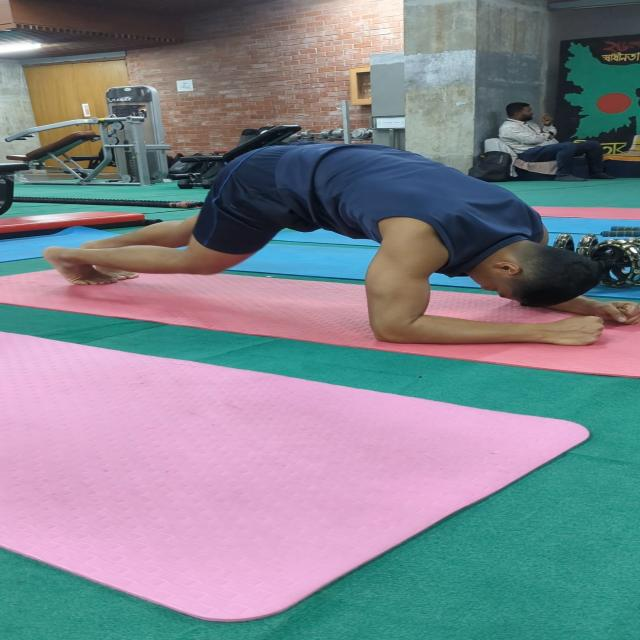Normal_MountainClimbers: (25, 133, 640, 365)
